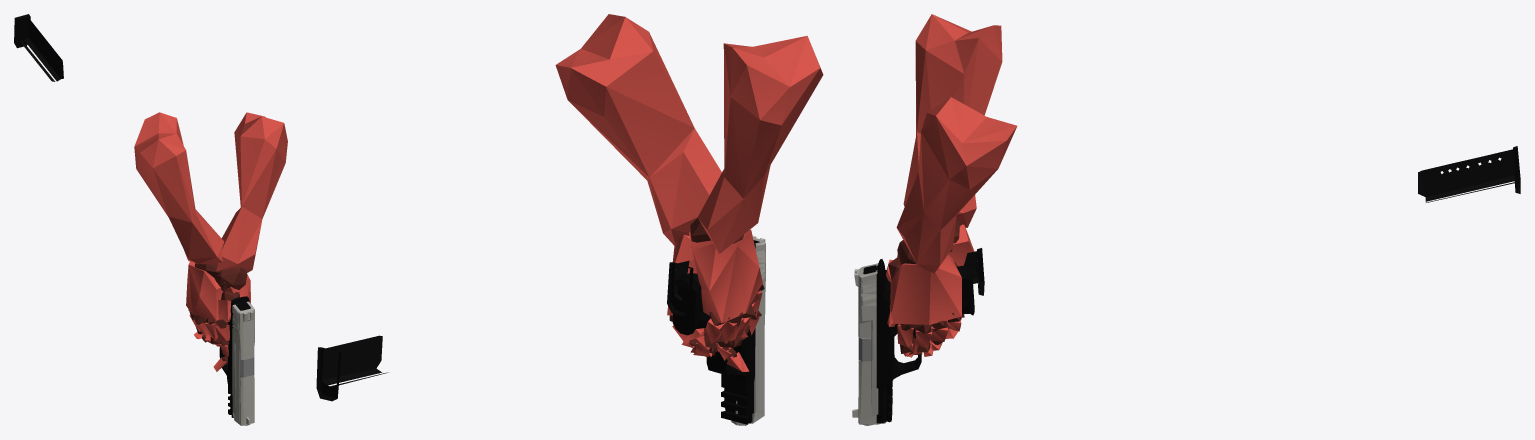
The model's file is M&P9reloadNormal1lowP_000149.obj.
3 views of the same model, side by side, from view 1: azimuth 30°, elevation 25°; view 2: azimuth 150°, elevation 25°; view 3: azimuth 270°, elevation 25° (orthographic). The views are drawn at different scales.
Parts seen in each view (by area): view 1: Beta_Surface.001_Beta_Surface.002, slide_平面.002, magazine_平面.003, Beta_Joints.001_Beta_Joints.002, triger_平面.001; view 2: Beta_Surface.001_Beta_Surface.002, triger_平面.001, magazine_平面.003, slide_平面.002, Beta_Joints.001_Beta_Joints.002, magazine.002_平面.005; view 3: Beta_Surface.001_Beta_Surface.002, triger_平面.001, magazine_平面.003, slide_平面.002, Beta_Joints.001_Beta_Joints.002.
Boxes of the visible parts, left/top/right/bottom form: Beta_Surface.001_Beta_Surface.002: left=134, top=112, right=287, bottom=371; slide_平面.002: left=232, top=301, right=254, bottom=425; magazine_平面.003: left=14, top=14, right=63, bottom=81; Beta_Joints.001_Beta_Joints.002: left=187, top=263, right=247, bottom=364; triger_平面.001: left=219, top=296, right=254, bottom=425; Beta_Surface.001_Beta_Surface.002: left=555, top=14, right=823, bottom=371; triger_平面.001: left=672, top=241, right=755, bottom=425; magazine_平面.003: left=316, top=335, right=388, bottom=401; slide_平面.002: left=731, top=236, right=765, bottom=425; Beta_Joints.001_Beta_Joints.002: left=669, top=218, right=764, bottom=363; magazine.002_平面.005: left=667, top=260, right=693, bottom=316; Beta_Surface.001_Beta_Surface.002: left=886, top=14, right=1017, bottom=357; triger_平面.001: left=858, top=259, right=976, bottom=425; magazine_平面.003: left=1418, top=146, right=1520, bottom=202; slide_平面.002: left=852, top=263, right=886, bottom=424; Beta_Joints.001_Beta_Joints.002: left=888, top=220, right=964, bottom=356.
Bounding box in the file's own units: 45.8 × 80.05 × 130.
